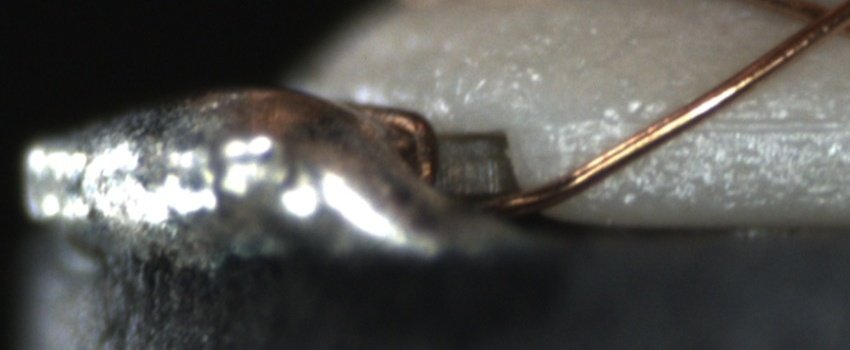CL: (782, 0, 848, 46)
DL: (571, 97, 849, 157)
TE: (363, 98, 441, 186)
